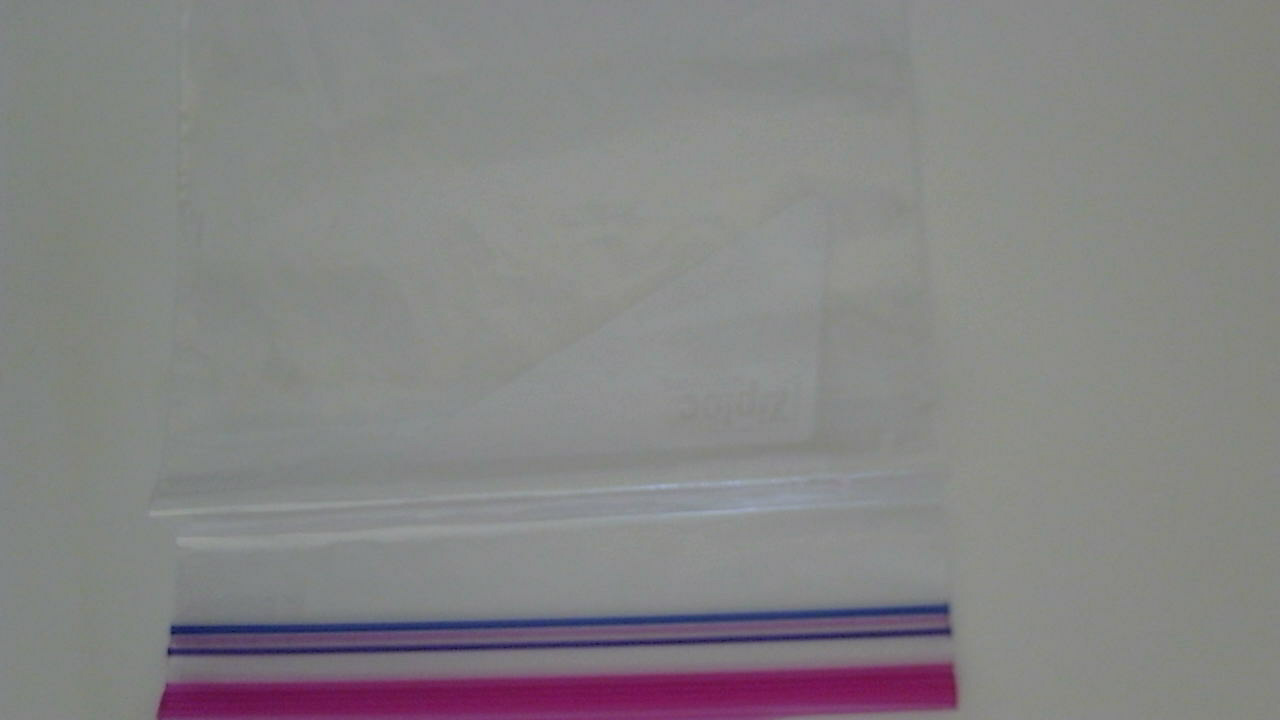Plastic Bag: (183, 14, 970, 720)
